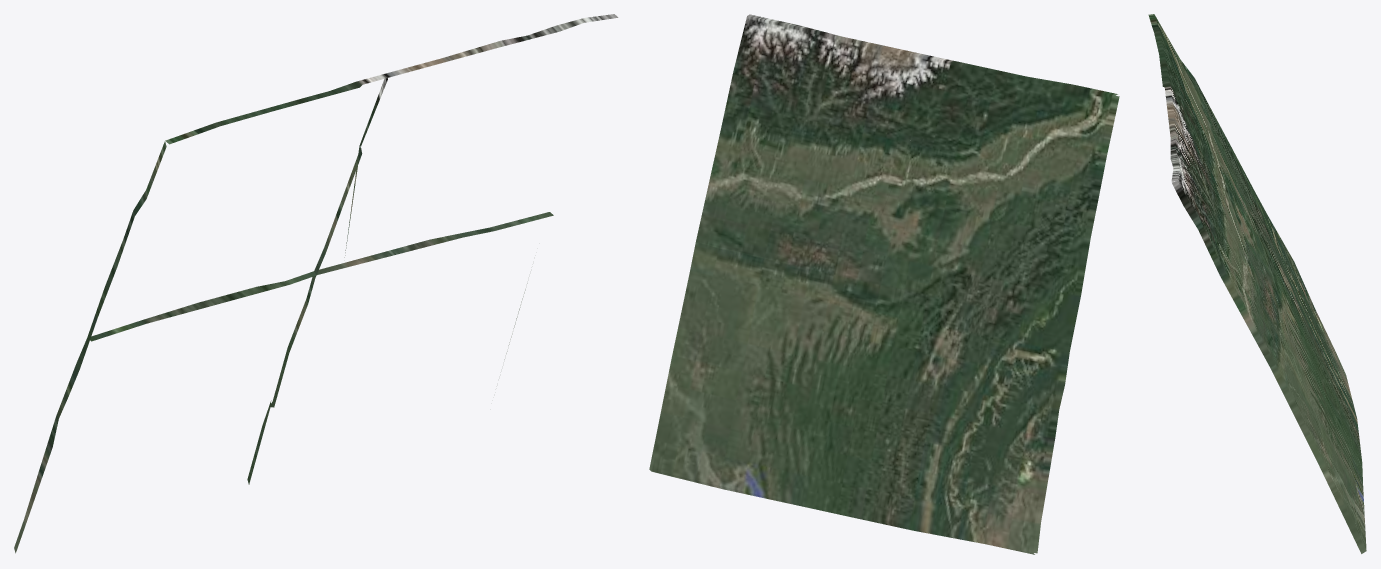
3 views of the same model, side by side, from view 1: azimuth 30°, elevation 25°; view 2: azimuth 150°, elevation 25°; view 3: azimuth 270°, elevation 25° (orthographic). The views are drawn at different scales.
Size of the model in its own units: 586844 by 574794 by 302703.
1 material, 1 textured.
